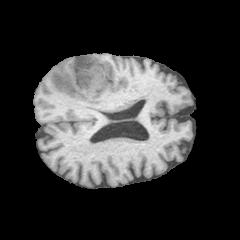glioma: (52, 55, 113, 108)
